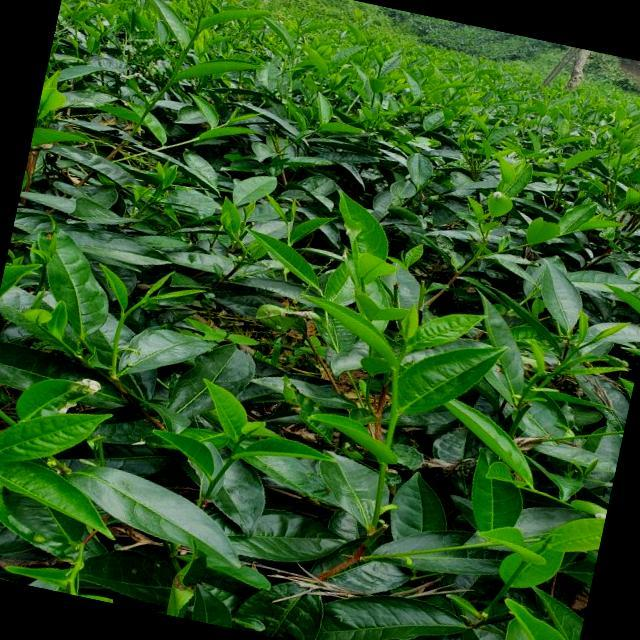Stem: (221, 459, 234, 472), (116, 319, 124, 333), (190, 32, 199, 42), (392, 370, 397, 387), (189, 138, 198, 143), (570, 349, 577, 355), (288, 227, 291, 238)
